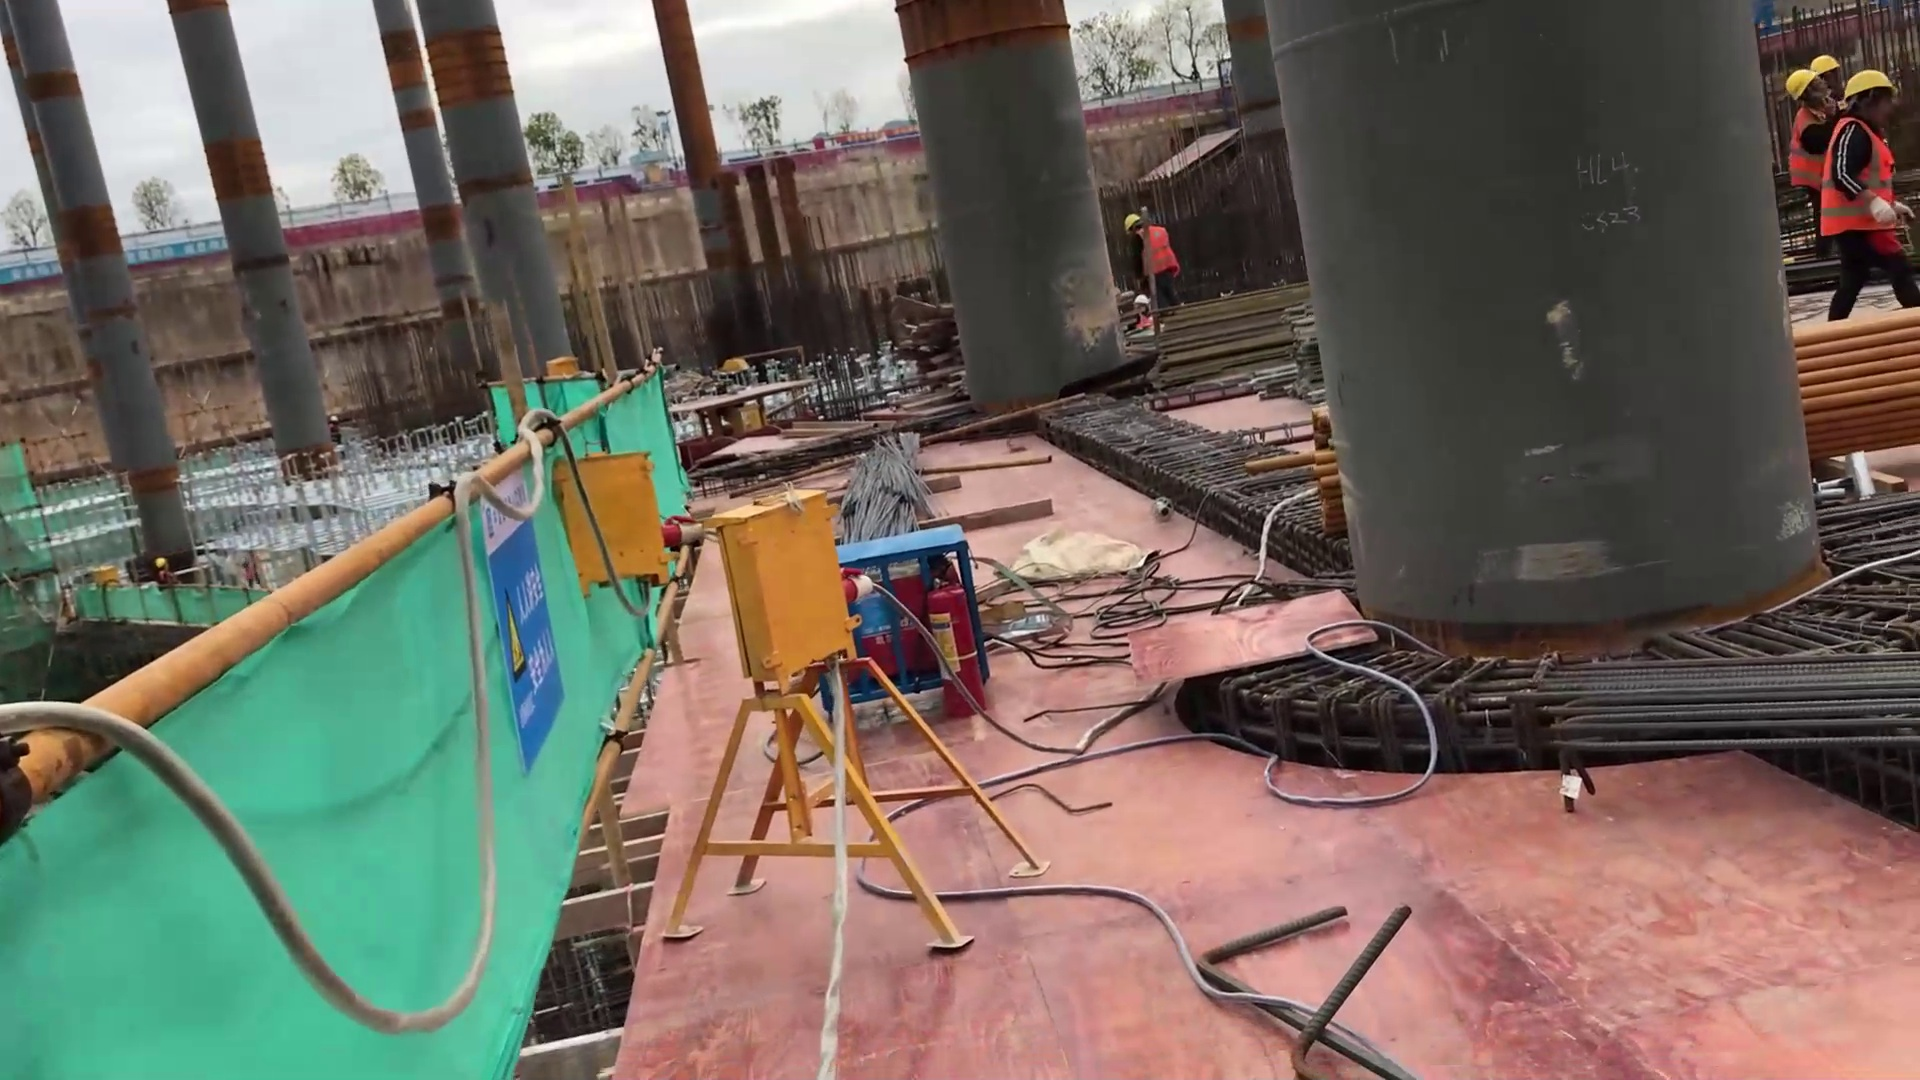board: (1136, 277, 1319, 392)
cutter: (665, 373, 804, 437)
ebox: (691, 534, 808, 679), (586, 439, 671, 589), (734, 397, 773, 444), (89, 562, 133, 587)
helmet: (1847, 64, 1900, 105), (1791, 63, 1814, 101), (1808, 52, 1847, 68), (1121, 212, 1143, 231), (1130, 288, 1149, 308)
person: (1809, 70, 1901, 318), (1774, 70, 1851, 253), (1118, 213, 1184, 309), (1807, 47, 1857, 113), (1134, 295, 1166, 341)
rebar: (1526, 640, 1920, 737), (831, 439, 940, 535)
slogan: (434, 486, 579, 707)
vest: (1825, 111, 1900, 239), (1791, 105, 1826, 199), (1138, 227, 1182, 276), (1134, 314, 1152, 327)
